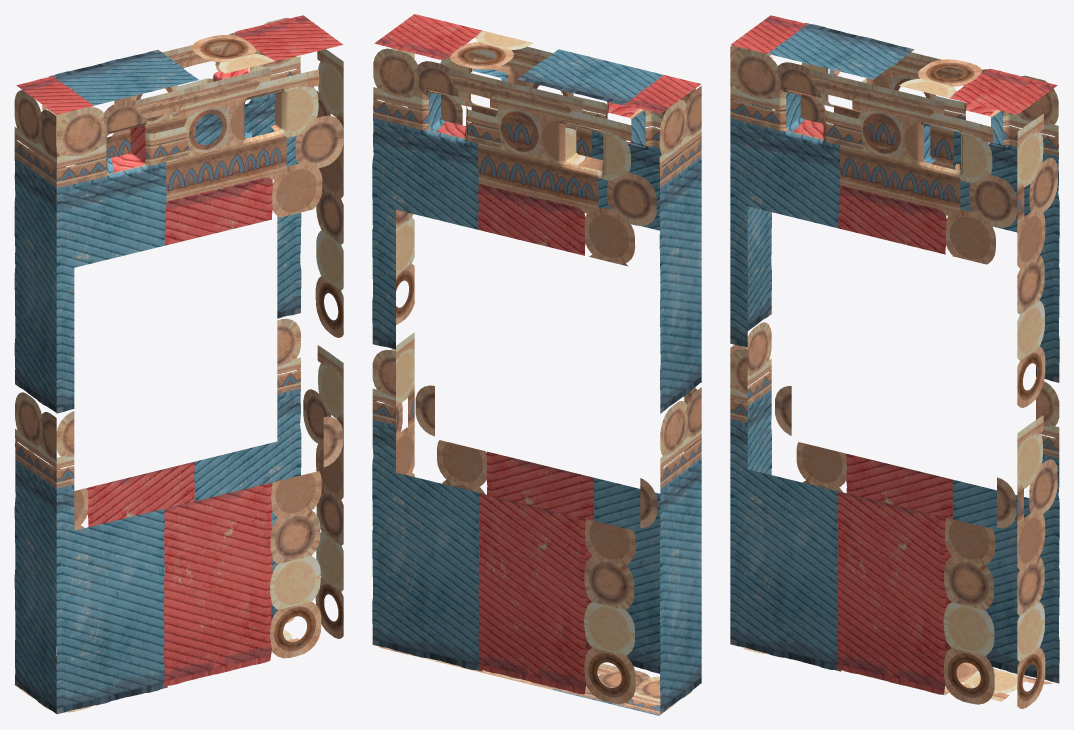
The picture shows the model from 3 angles, left to right: view 1: azimuth 30°, elevation 25°; view 2: azimuth 150°, elevation 25°; view 3: azimuth 330°, elevation 25°; orthographic projection.
Parts seen in each view (by area): view 1: SM_BB_T4_Column_02_LOD0; view 2: SM_BB_T4_Column_02_LOD0; view 3: SM_BB_T4_Column_02_LOD0.
Boxes of the visible parts, left/top/right/bottom form: SM_BB_T4_Column_02_LOD0: left=14, top=15, right=343, bottom=714; SM_BB_T4_Column_02_LOD0: left=372, top=14, right=701, bottom=715; SM_BB_T4_Column_02_LOD0: left=730, top=15, right=1059, bottom=708.
Bounding box in the file's own units: 1.5 × 3 × 0.3844.
